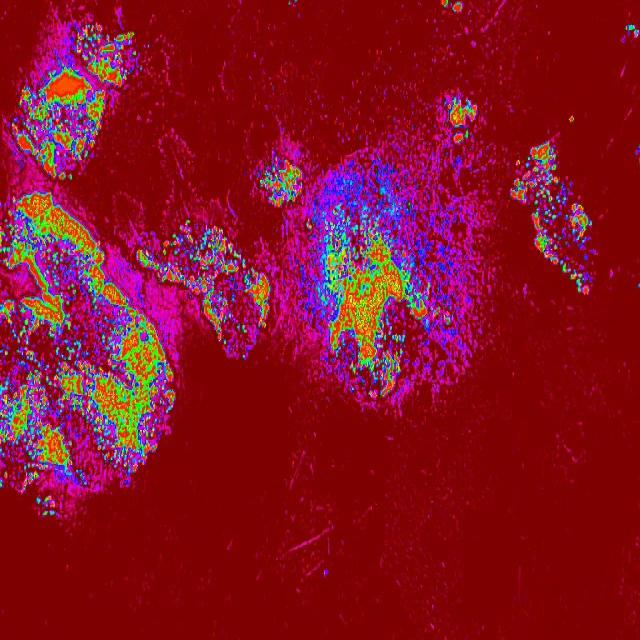fire: (303, 165, 468, 407), (0, 188, 107, 493), (14, 17, 136, 181), (137, 216, 270, 360), (510, 139, 593, 297), (109, 281, 138, 490), (138, 359, 176, 463), (254, 152, 302, 210), (440, 93, 479, 147), (34, 494, 56, 520), (622, 20, 640, 42), (439, 0, 466, 11), (321, 567, 332, 578), (633, 147, 640, 164), (285, 0, 299, 8), (568, 115, 576, 125), (146, 41, 150, 51), (637, 282, 640, 290), (138, 65, 142, 71)
